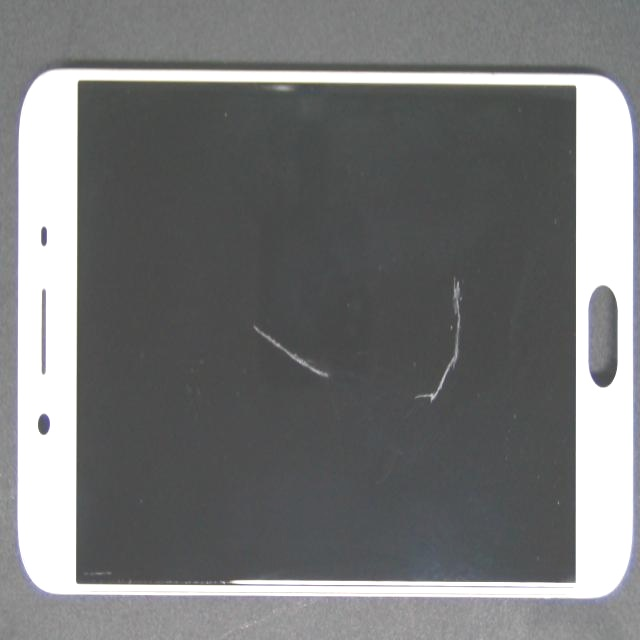scratch: (255, 171, 640, 426), (210, 193, 459, 495)
